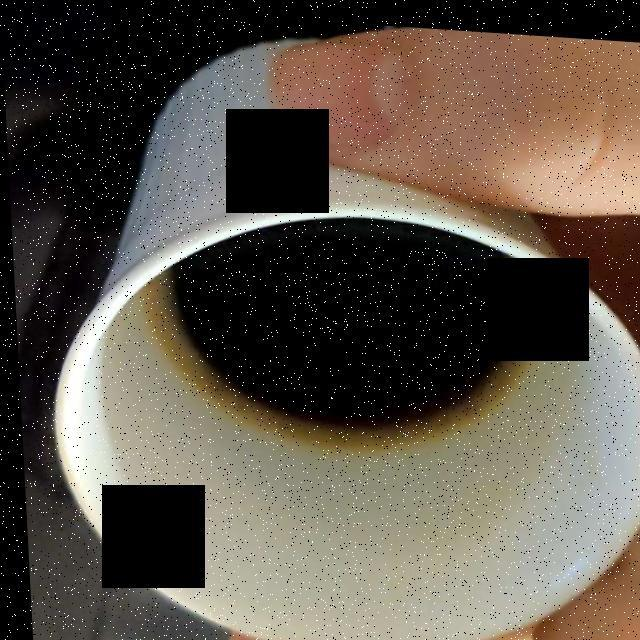coffee: (149, 217, 529, 439)
